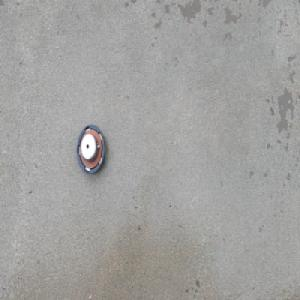FuelCap: (75, 122, 105, 177)
